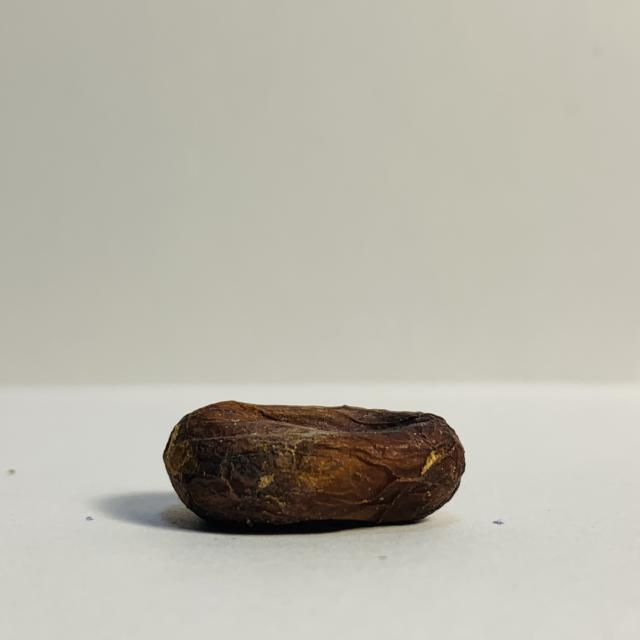Fine_cocoabeans: (143, 371, 474, 550)
